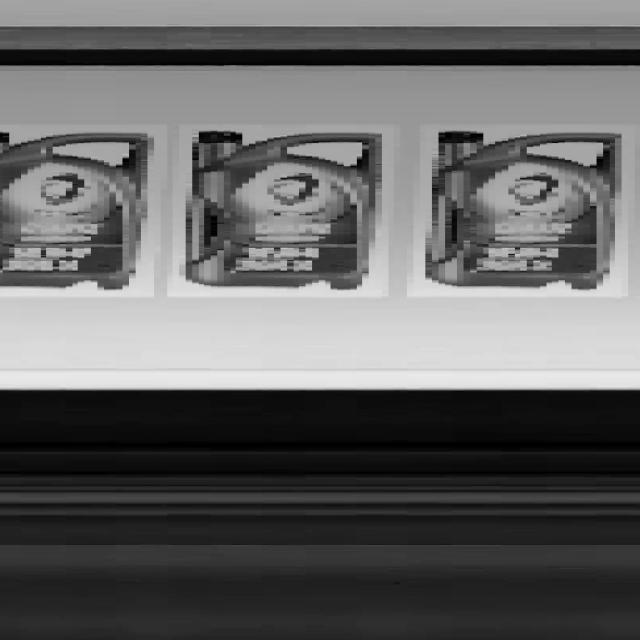motor_oil: (170, 121, 390, 299), (429, 124, 625, 294), (0, 124, 153, 305)
